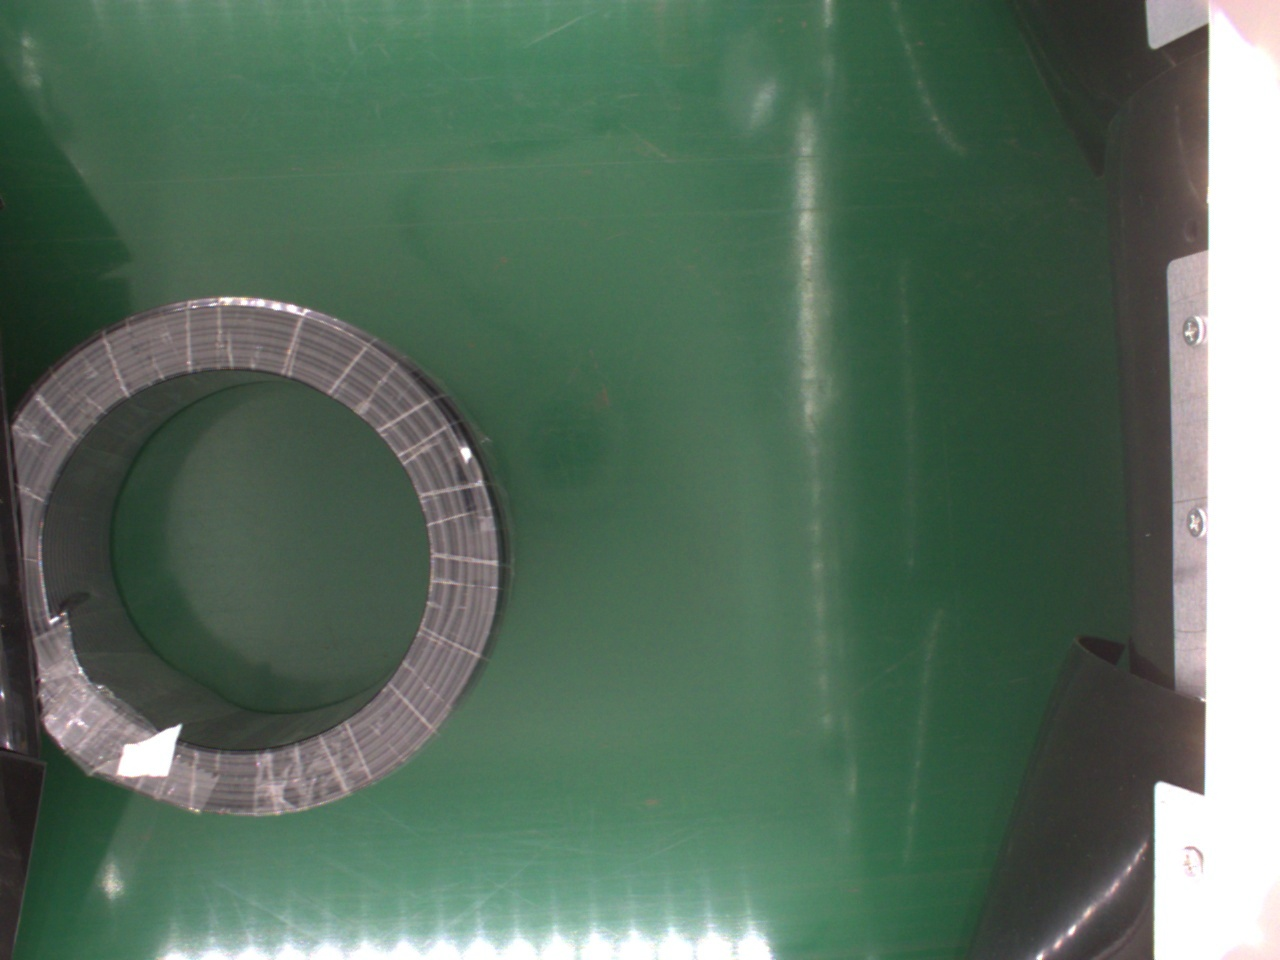black: (6, 295, 509, 822)
